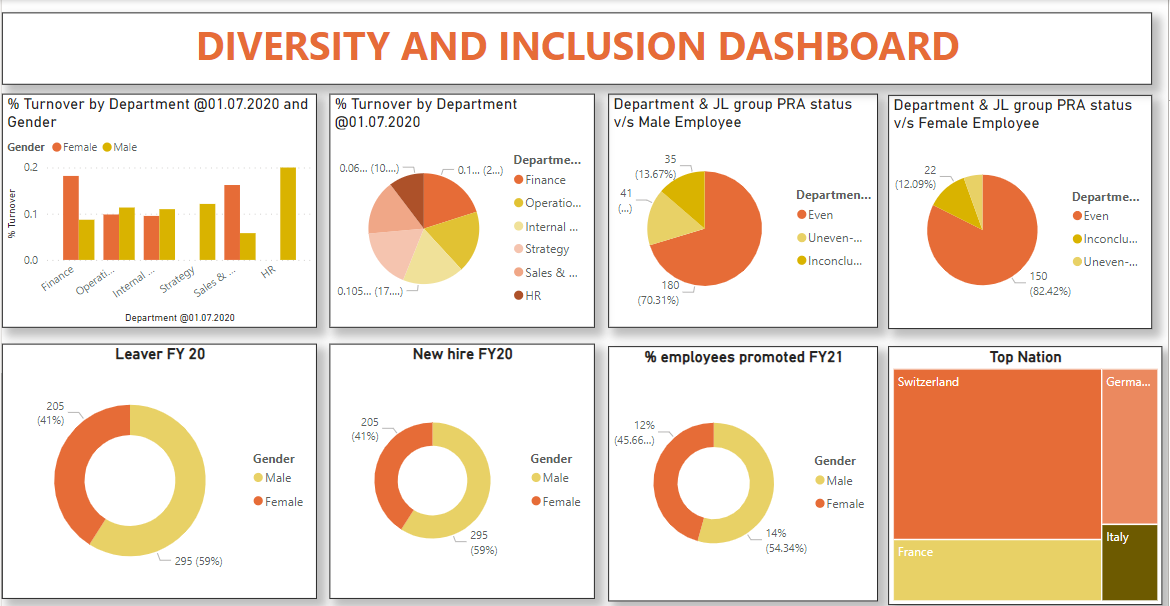

What the dashboard file says about the page in this screenshot:
{"tool":"powerbi","page":{"name":"Dashboard2","canvas":[1280,720],"ordinal":1},"visuals":[{"type":"donutChart","title":"Leaver FY 20","fields":{"Category":["Pharma Group AG.Gender"],"Y":["CountNonNull(Pharma Group AG.Leaver FY)"]},"box":[0,377.4,345.8,279.9],"z":0},{"type":"donutChart","title":"New hire FY20","fields":{"Y":["CountNonNull(Pharma Group AG.New hire FY20?)"],"Category":["Pharma Group AG.Gender"]},"box":[359.5,377.4,290.9,279.9],"z":1000},{"type":"donutChart","title":"% employees promoted FY21","fields":{"Y":["Backing 1.% employees promoted (FY21)"],"Category":["Pharma Group AG.Gender"]},"box":[665.5,380.1,296.4,279.9],"z":2000},{"type":"treemap","title":"Top Nation","fields":{"Values":["CountNonNull(Pharma Group AG.Nationality 1)"],"Group":["Pharma Group AG.Nationality 1"]},"box":[972.9,380.1,300.5,284],"z":3000},{"type":"pieChart","title":"Department & JL group PRA status v/s Male Employee","fields":{"Category":["Pharma Group AG.Department & JL group PRA status"],"Y":["Backing 2.Male Count"]},"box":[665.5,102.9,296.4,256.6],"z":4000},{"type":"pieChart","title":" Department & JL group PRA status v/s Female Employee","fields":{"Category":["Pharma Group AG.Department & JL group PRA status"],"Y":["Backing 2.Female Count"]},"box":[972.9,104.3,289.5,256.6],"z":5000},{"type":"textbox","box":[0,13.7,1262.4,79.6],"z":7000},{"type":"clusteredColumnChart","fields":{"Y":["Backing 1.% Turnover"],"Category":["Pharma Group AG.Department @01.07.2020"],"Series":["Pharma Group AG.Gender"]},"box":[0,102.9,345.8,256.6],"z":7001},{"type":"pieChart","fields":{"Y":["Backing 1.% Turnover"],"Category":["Pharma Group AG.Department @01.07.2020"]},"box":[359.5,102.9,290.9,256.6],"z":7002}]}

Visuals, with their boxes on the page's 1280x720 design canvas (x1, y1, x2, y2). These are canvas units, not pixel positions in the 1170x606 screenshot, which may show the page scaled, cropped or inside an application window:
"Leaver FY 20" donutChart: {"left": 0, "top": 377, "right": 346, "bottom": 657}
"New hire FY20" donutChart: {"left": 360, "top": 377, "right": 650, "bottom": 657}
"% employees promoted FY21" donutChart: {"left": 666, "top": 380, "right": 962, "bottom": 660}
"Top Nation" treemap: {"left": 973, "top": 380, "right": 1273, "bottom": 664}
"Department & JL group PRA status v/s Male Employee" pieChart: {"left": 666, "top": 103, "right": 962, "bottom": 360}
" Department & JL group PRA status v/s Female Employee" pieChart: {"left": 973, "top": 104, "right": 1262, "bottom": 361}
textbox: {"left": 0, "top": 14, "right": 1262, "bottom": 93}
clusteredColumnChart - Backing 1.% Turnover x Pharma Group AG.Department @01.07.2020: {"left": 0, "top": 103, "right": 346, "bottom": 360}
pieChart - Backing 1.% Turnover x Pharma Group AG.Department @01.07.2020: {"left": 360, "top": 103, "right": 650, "bottom": 360}
